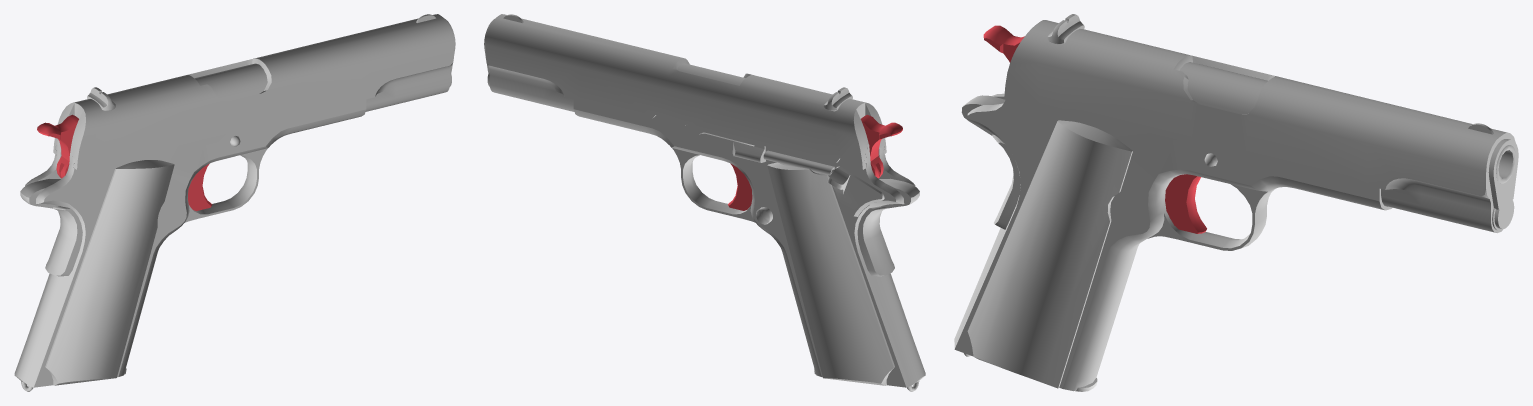
Rendered from weapon.glb.
3 renders of one model, left to right at view 1: azimuth 30°, elevation 25°; view 2: azimuth 150°, elevation 25°; view 3: azimuth 330°, elevation 25°, orthographic. The views are drawn at different scales.
Visible parts, largest first — view 1: model, Slide, hammer, Trigger; view 2: model, Slide, hammer, Trigger; view 3: model, Slide, Trigger, hammer.
Part boxes in pixels (x1,y1,x2,y2): model: [14, 63, 366, 391]; Slide: [53, 14, 455, 169]; hammer: [37, 114, 78, 178]; Trigger: [188, 163, 212, 211]; model: [573, 63, 925, 391]; Slide: [484, 14, 886, 169]; hammer: [861, 114, 902, 178]; Trigger: [728, 163, 752, 210]; model: [954, 62, 1515, 391]; Slide: [1004, 14, 1518, 232]; Trigger: [1165, 174, 1206, 233]; hammer: [983, 25, 1024, 62].
Bounding box in the file's own units: 14.74 × 9.3 × 2.1.
